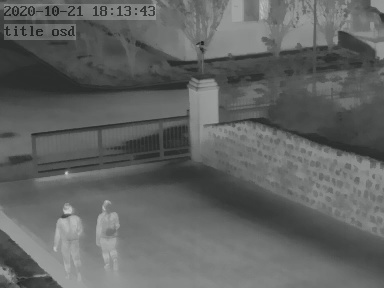person: (57, 201, 85, 284), (95, 193, 122, 272)
